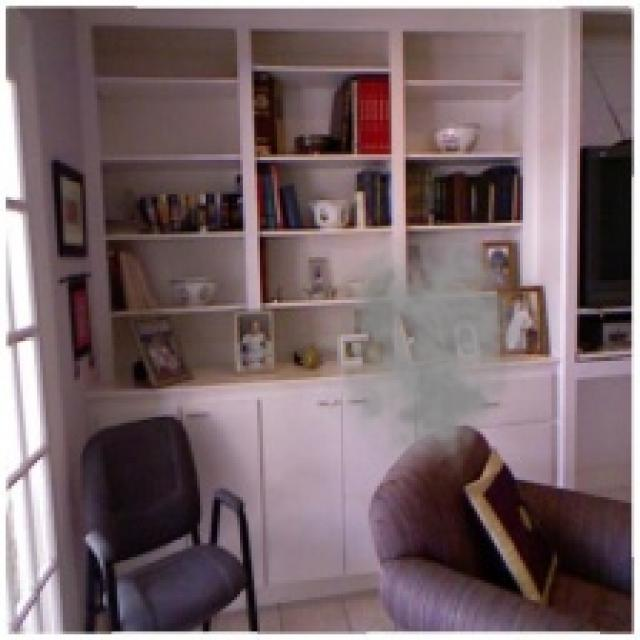smoke: (312, 220, 528, 486)
